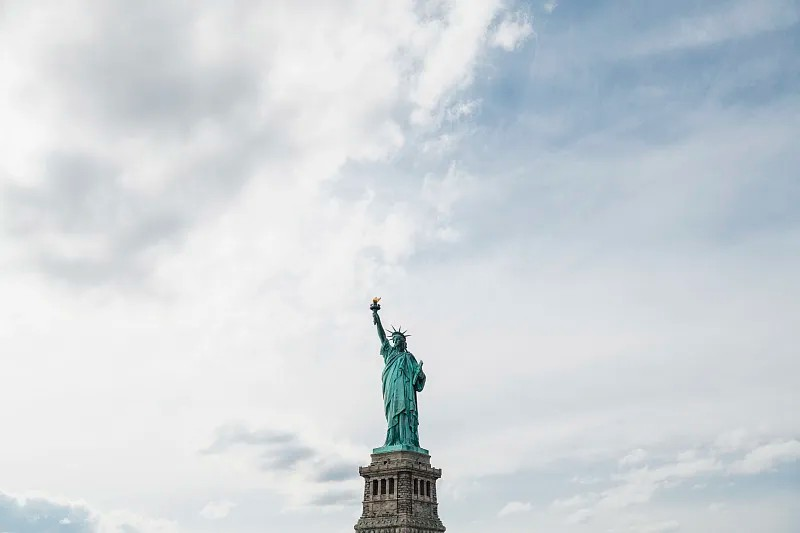SL: (354, 296, 446, 533)
